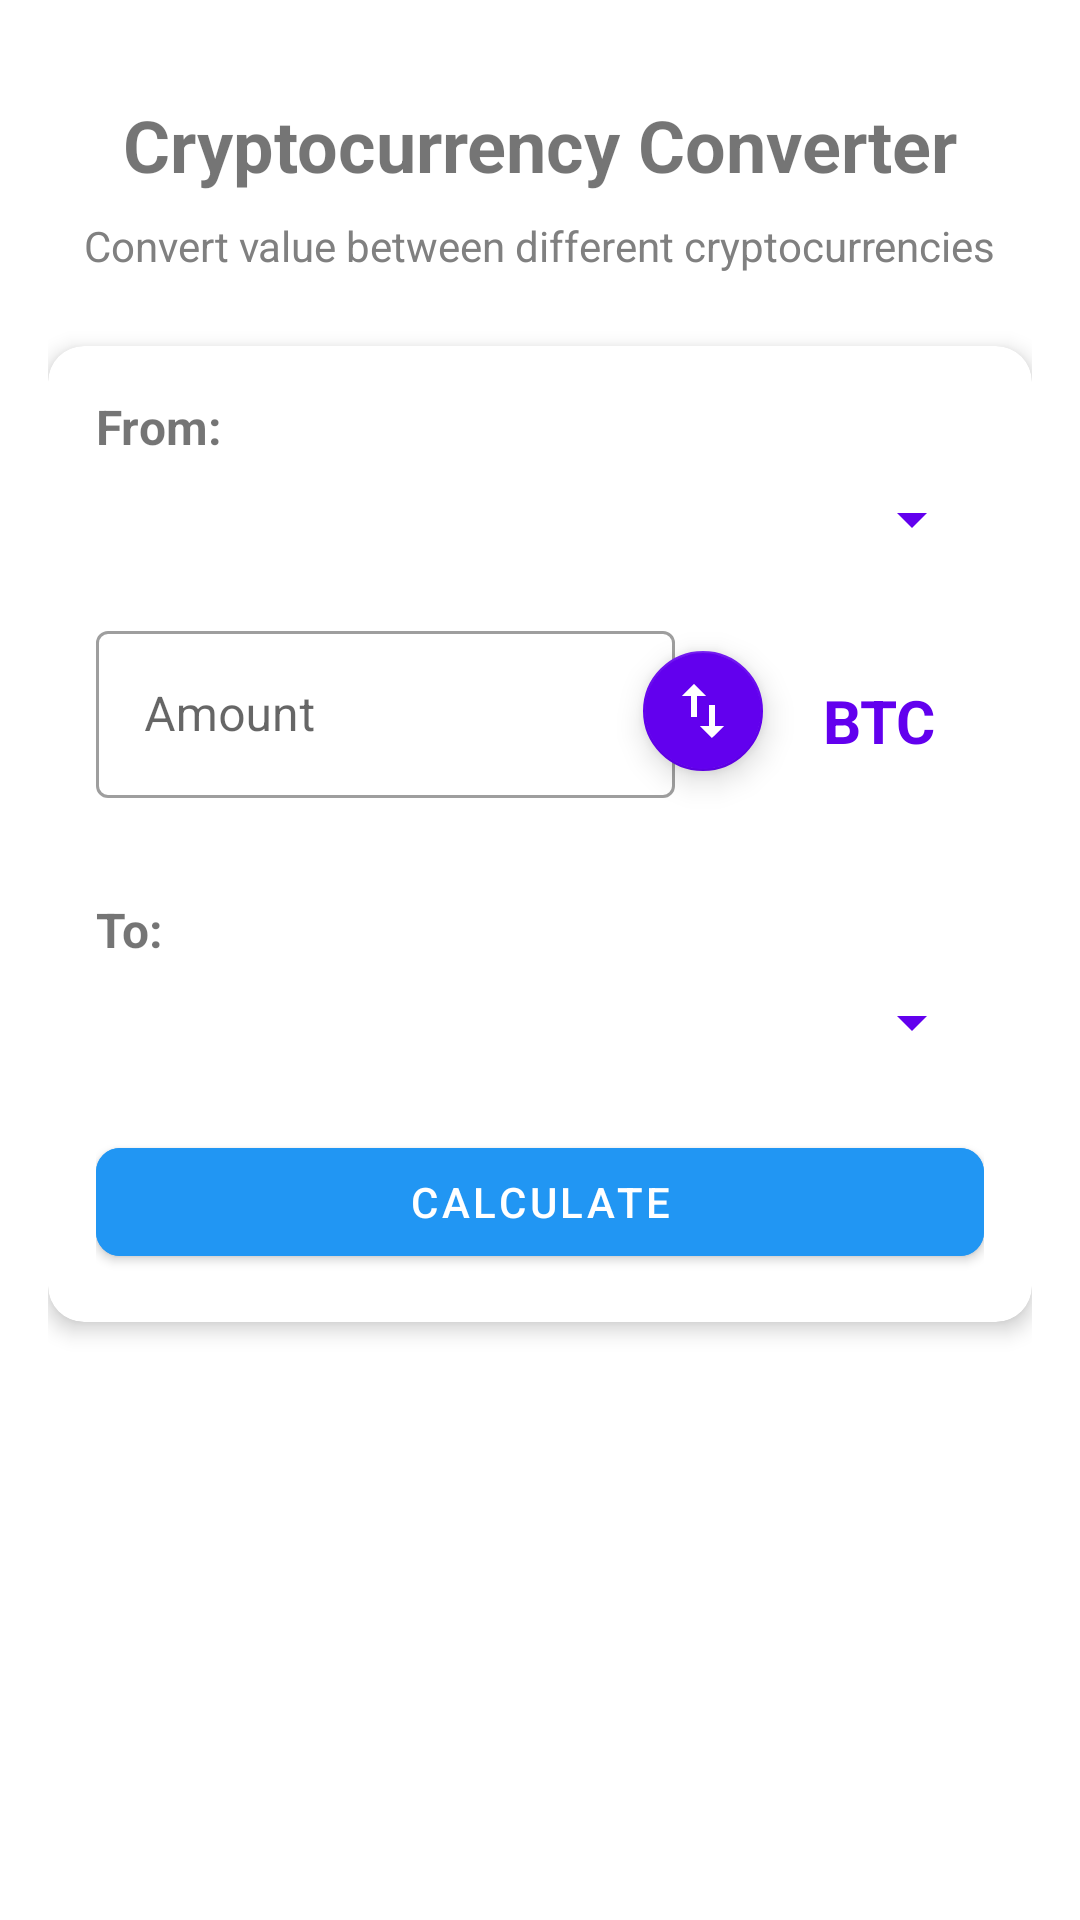

Locate icon controls on the screen. Image size 1080 x 1920, boxes as [x1,y1,x2,y2].
swap vert: [643,639,764,783]
